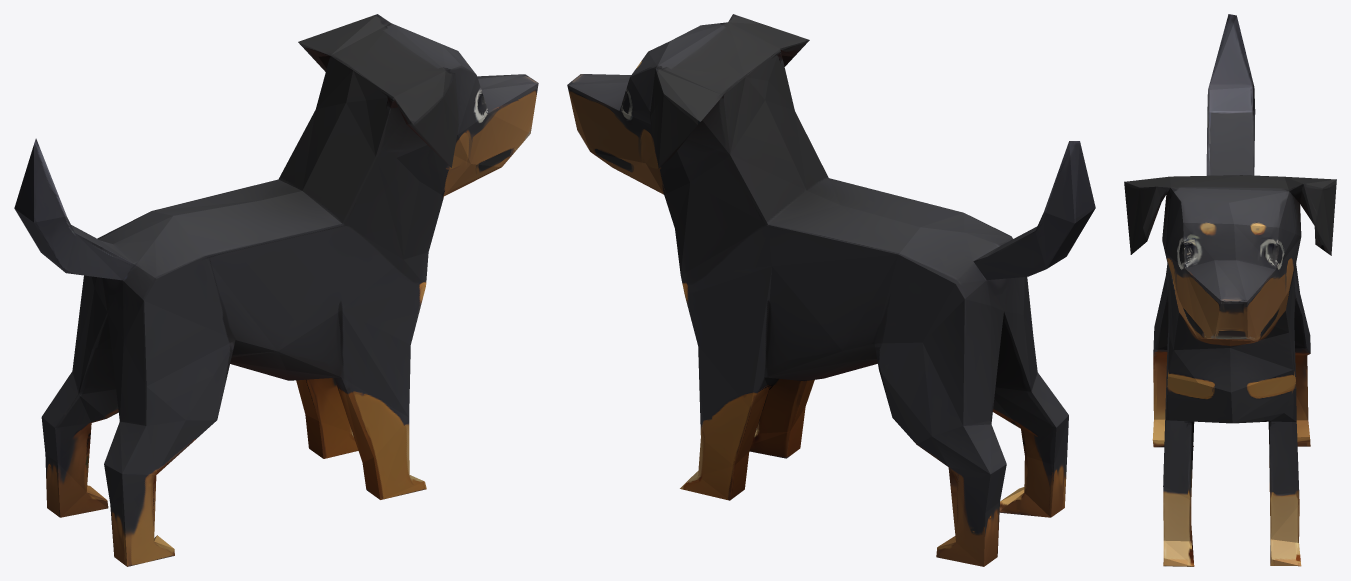
3 views of the same model, side by side, from view 1: azimuth 30°, elevation 25°; view 2: azimuth 150°, elevation 25°; view 3: azimuth 270°, elevation 25° (orthographic). The views are drawn at different scales.
Parts seen in each view (by area): view 1: Figure; view 2: Figure; view 3: Figure.
Boxes of the visible parts, x1=… form: Figure: x1=14, y1=14, x2=538, y2=566; Figure: x1=567, y1=14, x2=1095, y2=566; Figure: x1=1124, y1=14, x2=1336, y2=566.
Size of the model in its own units: 0.5506 by 0.4298 by 0.2102.
1 material, 1 textured.
